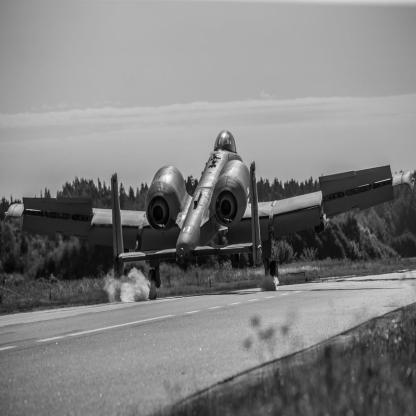A10: (4, 131, 416, 301)
